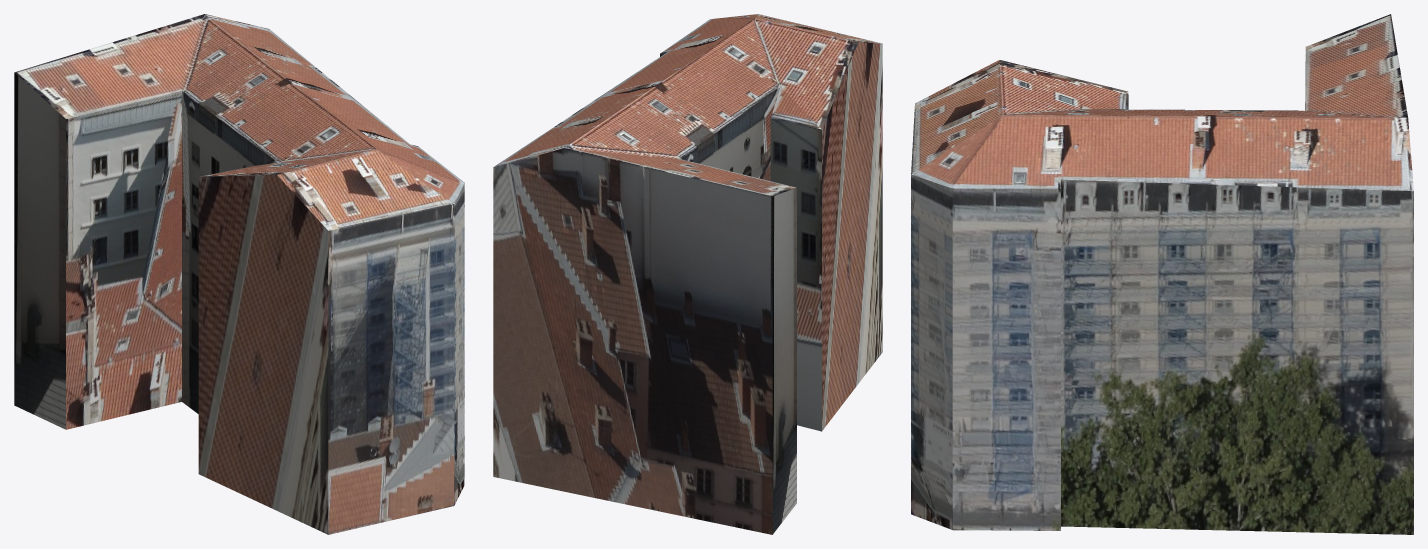
The picture shows the model from 3 angles, left to right: view 1: azimuth 30°, elevation 25°; view 2: azimuth 150°, elevation 25°; view 3: azimuth 270°, elevation 25°; orthographic projection. The views are drawn at different scales.
Parts seen in each view (by area): view 1: Z_UP; view 2: Z_UP; view 3: Z_UP.
Boxes of the visible parts, x1,y1,x2,y2 form: Z_UP: (14, 14, 464, 534); Z_UP: (493, 14, 882, 534); Z_UP: (911, 14, 1413, 534).
Size of the model in its own units: 22.41 by 27.34 by 32.73.
2 materials, 1 textured.
